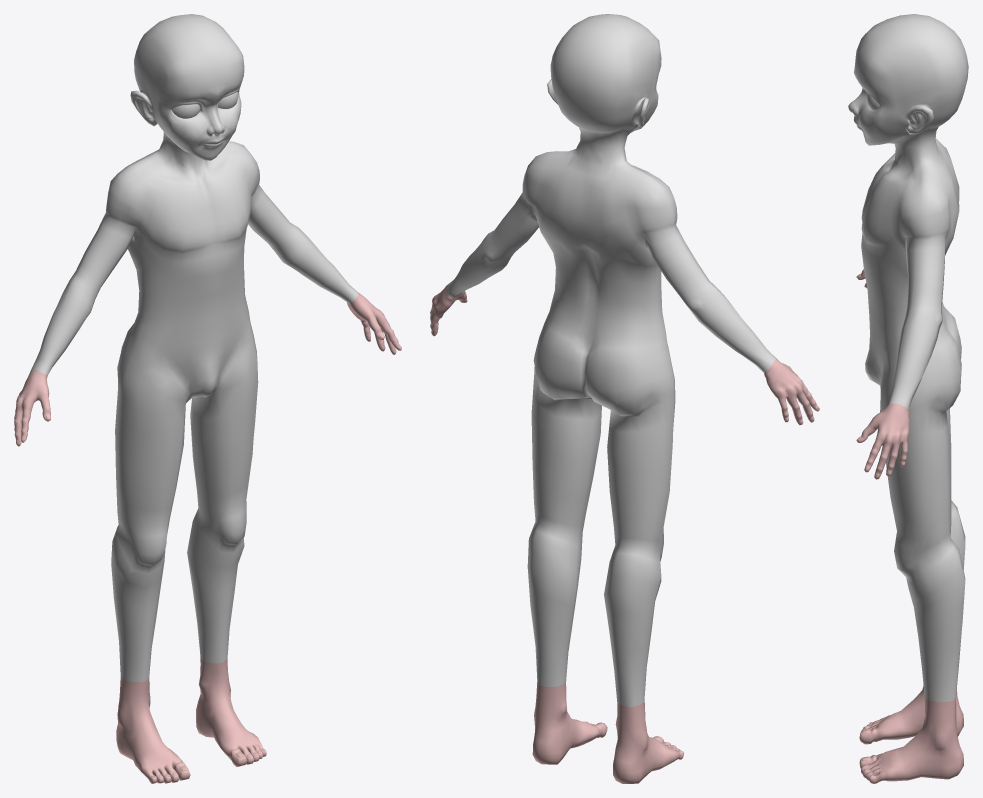
File: Charakter_Polyrunner.fbx
3 views of the same model, side by side, from view 1: azimuth 30°, elevation 25°; view 2: azimuth 150°, elevation 25°; view 3: azimuth 270°, elevation 25° (orthographic).
Parts seen in each view (by area): view 1: Anime_Child_Boy_A.001; view 2: Anime_Child_Boy_A.001; view 3: Anime_Child_Boy_A.001.
Part boxes in pixels (box(x1,y1,x2,y2)): Anime_Child_Boy_A.001: box(14, 14, 401, 783); Anime_Child_Boy_A.001: box(430, 14, 819, 783); Anime_Child_Boy_A.001: box(848, 14, 968, 783).
Bounding box in the file's own units: 355 × 657 × 97.23.
